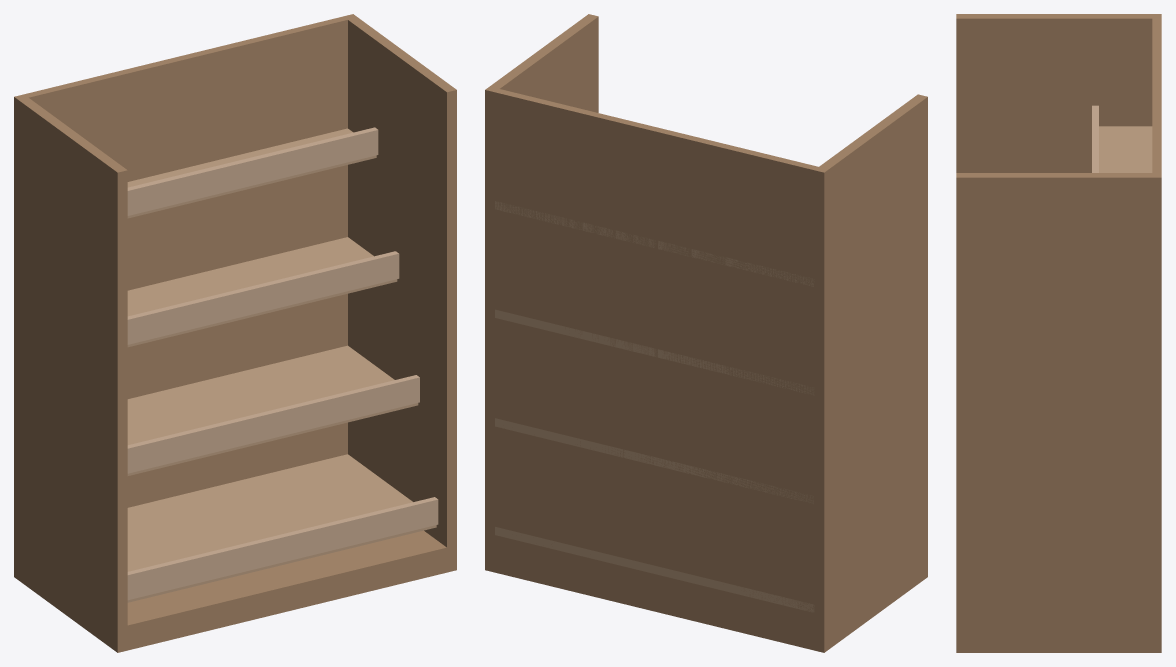
Rendered from magazine-rack.glb.
3 renders of one model, left to right at view 1: azimuth 30°, elevation 25°; view 2: azimuth 150°, elevation 25°; view 3: azimuth 270°, elevation 25°, orthographic.
Parts seen in each view (by area): view 1: side-L, shelf-0, lip-0; view 2: side-L, shelf-0; view 3: side-L, shelf-0, lip-0.
Boxes of the visible parts, x1,y1,x2,y2 form: side-L: [14, 14, 456, 652]; shelf-0: [127, 128, 436, 602]; lip-0: [127, 127, 438, 600]; side-L: [485, 14, 927, 652]; shelf-0: [495, 201, 814, 612]; side-L: [956, 14, 1161, 652]; shelf-0: [1099, 126, 1152, 172]; lip-0: [1092, 105, 1098, 172].
Bounding box in the file's own units: 0.85 × 1.15 × 0.45.
